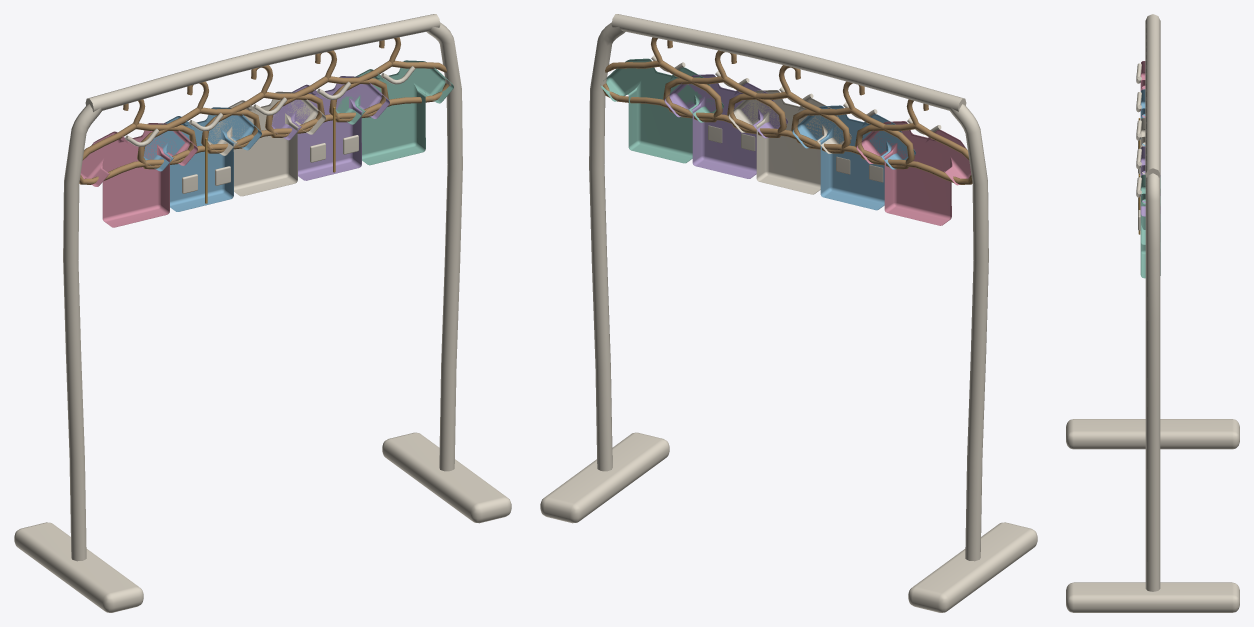
Rendered from cl_rail.glb.
The picture shows the model from 3 angles, left to right: view 1: azimuth 30°, elevation 25°; view 2: azimuth 150°, elevation 25°; view 3: azimuth 270°, elevation 25°; orthographic projection. The views are drawn at different scales.
Parts seen in each view (by area): view 1: prop; view 2: prop; view 3: prop.
Part boxes in pixels (x1=…): prop: x1=14, y1=14, x2=511, y2=612; prop: x1=540, y1=14, x2=1037, y2=612; prop: x1=1066, y1=14, x2=1239, y2=612.
Size of the model in its own units: 1.53 by 1.73 by 0.6201.
